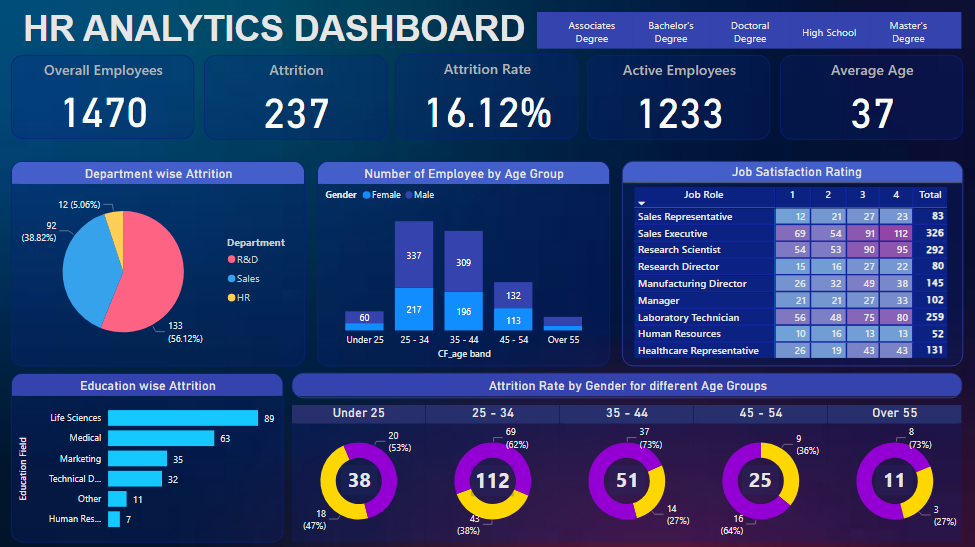

The dashboard page shown, as its layout file describes it:
{"tool":"powerbi","page":{"name":"Page 1","canvas":[1280,720],"ordinal":0},"visuals":[{"type":"card","title":"Overall Employees","fields":{"Values":["Sum(HR data.Employee Count)"]},"box":[16.7,71.9,240,110],"z":0},{"type":"card","title":"Attrition","fields":{"Values":["Sum(HR data.Attrition count)"]},"box":[270.5,72.4,239.9,110.9],"z":1000},{"type":"card","title":"Attrition Rate","fields":{"Values":["HR data.Attrition Rate"]},"box":[520.6,71.3,239.9,110.9],"z":2000},{"type":"card","title":"Active Employees","fields":{"Values":["HR data.Active Employees"]},"box":[771.8,72.4,239.9,110.9],"z":3000},{"type":"card","title":"Average Age","fields":{"Values":["Avg(HR data.Age)"]},"box":[1024.2,72.4,239.9,110.9],"z":4000},{"type":"pieChart","title":"Department wise Attrition","fields":{"Category":["HR data.Department"],"Y":["Sum(HR data.Attrition count)"]},"box":[16.9,210.3,384.7,268.8],"z":5000},{"type":"columnChart","title":"Number of Employee by Age Group","fields":{"Category":["HR data.CF_age band"],"Y":["Sum(HR data.Employee Count)"],"Series":["HR data.Gender"]},"box":[417.3,210.3,383.6,268.8],"z":6000},{"type":"pivotTable","title":"Job Satisfaction Rating","fields":{"Rows":["HR data.Job Role"],"Columns":["HR data.Job Satisfaction"],"Values":["Sum(HR data.Employee Count)"]},"box":[817.7,210.3,446.5,268.8],"z":7000},{"type":"barChart","title":"Education wise Attrition","fields":{"Category":["HR data.Education Field"],"Y":["Sum(HR data.Attrition count)"]},"box":[16.9,489.3,356.6,221.6],"z":8000},{"type":"donutChart","title":"Under 25","fields":{"Category":["HR data.Gender"],"Y":["Sum(HR data.Attrition count)"],"Series":["HR data.CF_age band"]},"box":[385.8,530.9,175.5,180],"z":9000},{"type":"textbox","title":"Attrition Rate by Gender for different Age Groups","box":[385.8,489.3,878.5,32.6],"z":10000},{"type":"donutChart","title":"25 - 34","fields":{"Category":["HR data.Gender"],"Y":["Sum(HR data.Attrition count)"],"Series":["HR data.CF_age band"]},"box":[561.3,530.9,175.5,180],"z":11000},{"type":"donutChart","title":"35 - 44","fields":{"Category":["HR data.Gender"],"Y":["Sum(HR data.Attrition count)"],"Series":["HR data.CF_age band"]},"box":[736.7,530.9,175.5,180],"z":12000},{"type":"donutChart","title":"45 - 54","fields":{"Category":["HR data.Gender"],"Y":["Sum(HR data.Attrition count)"],"Series":["HR data.CF_age band"]},"box":[912.2,530.9,175.5,180],"z":13000},{"type":"donutChart","title":"Over 55","fields":{"Category":["HR data.Gender"],"Y":["Sum(HR data.Attrition count)"],"Series":["HR data.CF_age band"]},"box":[1087.7,530.9,175.5,180],"z":14000},{"type":"card","fields":{"Values":["Sum(HR data.Attrition count)"]},"box":[448.8,609.6,48.4,40.5],"z":14001},{"type":"card","fields":{"Values":["Sum(HR data.Attrition count)"]},"box":[619.7,609.2,56.3,40.6],"z":14002},{"type":"card","fields":{"Values":["Sum(HR data.Attrition count)"]},"box":[800.8,609.6,48.4,40.5],"z":14003},{"type":"card","fields":{"Values":["Sum(HR data.Attrition count)"]},"box":[975.2,609.6,48.4,40.5],"z":14004},{"type":"card","fields":{"Values":["Sum(HR data.Attrition count)"]},"box":[1150.7,609.6,48.4,40.5],"z":14005},{"type":"textbox","title":"HR ANALYTICS DASHBOARD","box":[17.2,10.3,689.3,53.9],"z":14006},{"type":"slicer","fields":{"Values":["HR data.Education"]},"box":[706.5,16.1,556.3,48.2],"z":14007}]}

Visuals, with their boxes in screenshot pixels (x1, y1, x2, y2), scaled from the page's 1280x720 canvas onto the 975x547 screenshot:
"Overall Employees" card: 13,55,196,138
"Attrition" card: 206,55,389,139
"Attrition Rate" card: 397,54,579,138
"Active Employees" card: 588,55,771,139
"Average Age" card: 780,55,963,139
"Department wise Attrition" pieChart: 13,160,306,364
"Number of Employee by Age Group" columnChart: 318,160,610,364
"Job Satisfaction Rating" pivotTable: 623,160,963,364
"Education wise Attrition" barChart: 13,372,285,540
"Under 25" donutChart: 294,403,428,540
"Attrition Rate by Gender for different Age Groups" textbox: 294,372,963,396
"25 - 34" donutChart: 428,403,561,540
"35 - 44" donutChart: 561,403,695,540
"45 - 54" donutChart: 695,403,829,540
"Over 55" donutChart: 829,403,962,540
card - Sum(HR data.Attrition count): 342,463,379,494
card - Sum(HR data.Attrition count): 472,463,515,494
card - Sum(HR data.Attrition count): 610,463,647,494
card - Sum(HR data.Attrition count): 743,463,780,494
card - Sum(HR data.Attrition count): 877,463,913,494
"HR ANALYTICS DASHBOARD" textbox: 13,8,538,49
slicer - HR data.Education: 538,12,962,49
